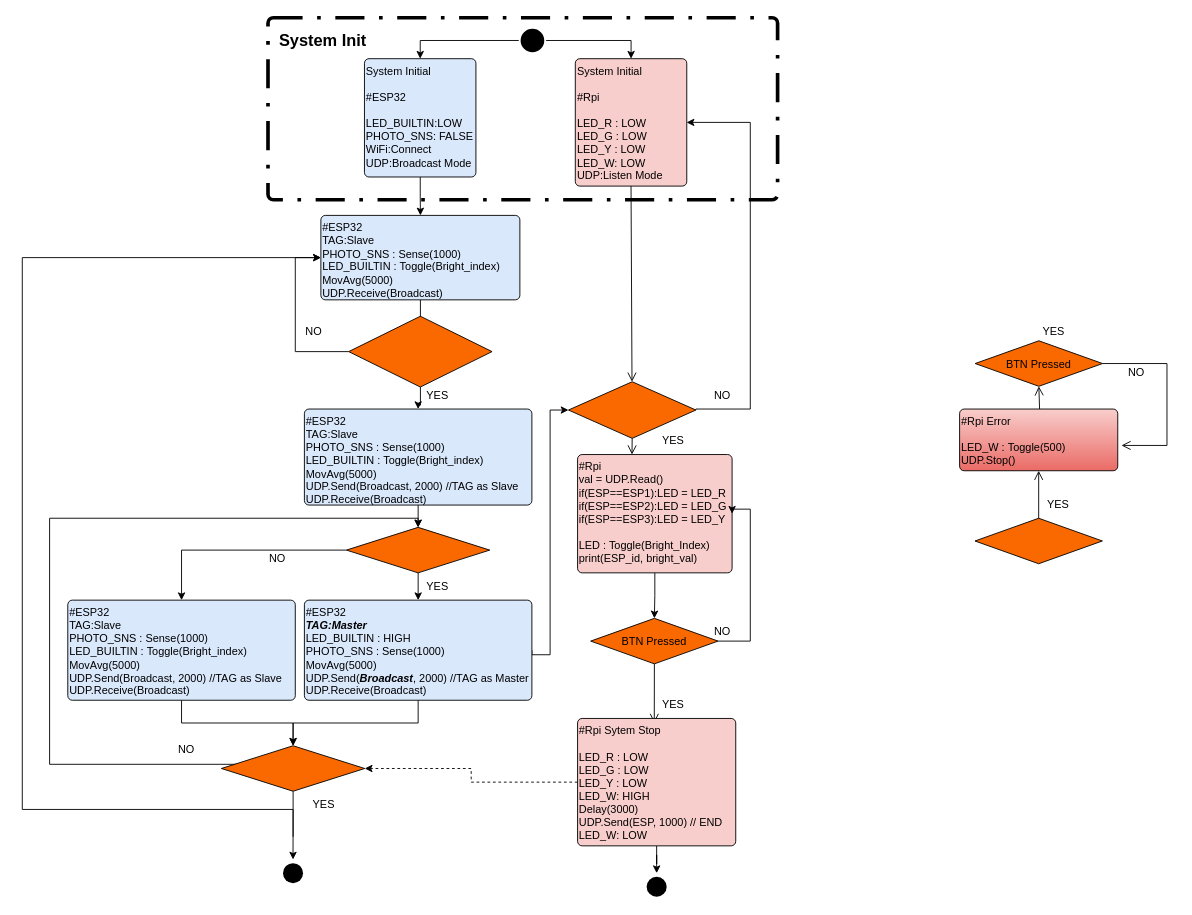
Some shapes in this 1192 by 915 pixel diagram are drawn without their labels. Here are the shapes that lost their labels. From the top down, the centre of each, then its label:
At point 420,351: "Network silent ≥ 200 ms? && Sns Time >= 5000?".
At point 632,409: "UDP RECEIVED from Master ESP ?".
At point 418,549: "Self_val == max(val_all)?".
At point 1038,540: "Time >= 10000".
At point 292,768: "RPi UDP==Stop?".
